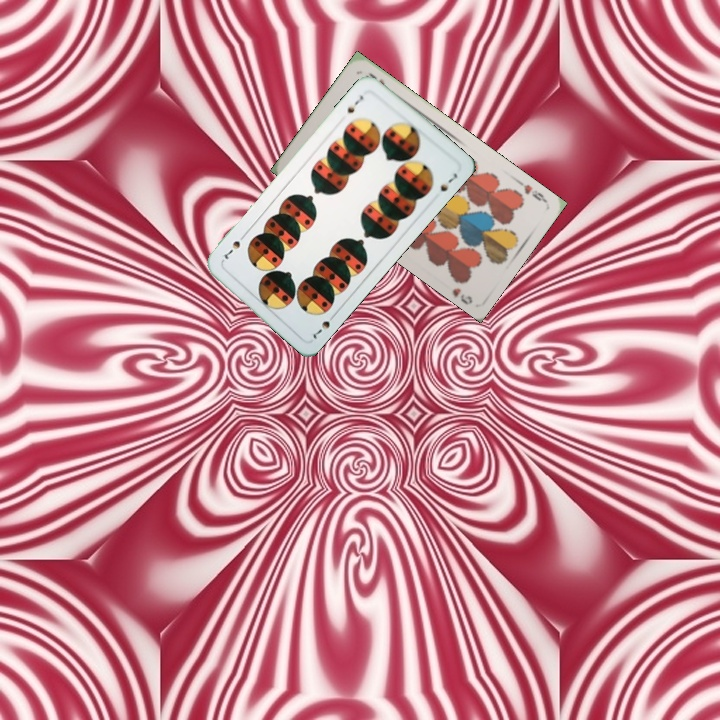H9: (513, 176, 549, 205)
S7: (309, 309, 338, 342), (343, 91, 366, 116)
